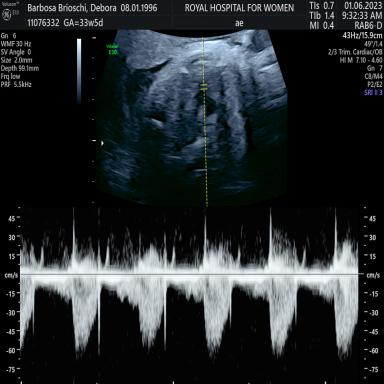Ultrasound-Waves: (24, 207, 357, 384)
